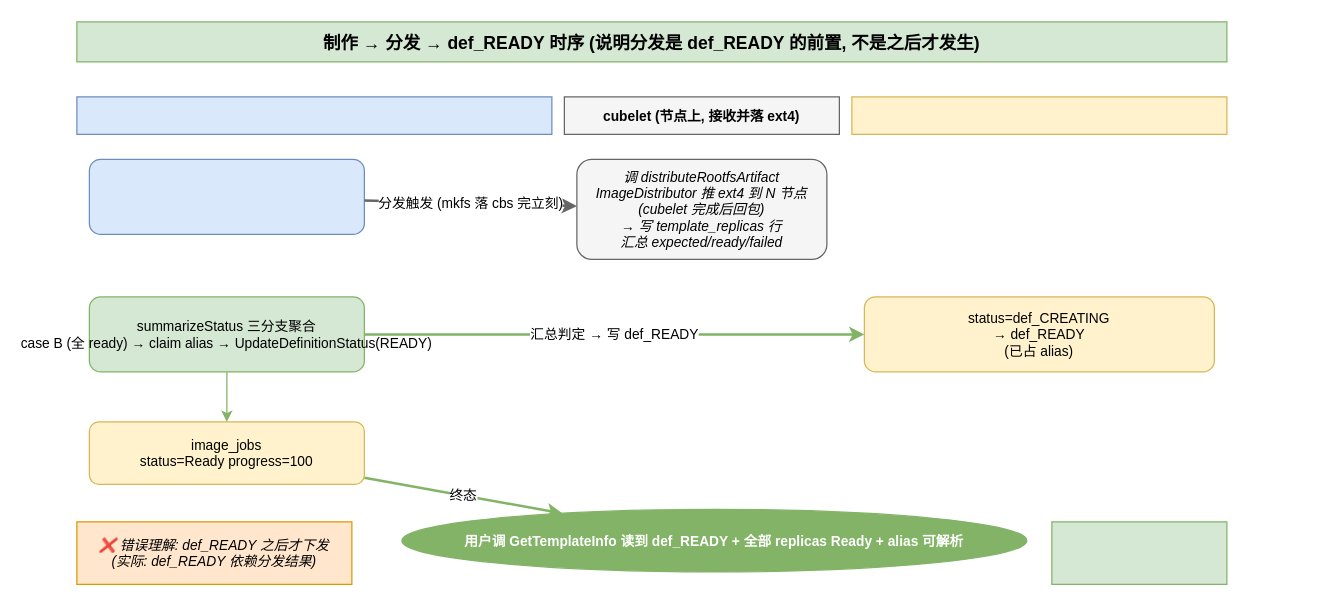
Image size: 1329x606. Some labels were removed from this diagram. The centre of each missing label's shape, as x and y in pixels:
mkfs ext4 + 落 cbs → cbs.ext4 就绪 → image_jobs phase=Distributing progress=70: pixel 226 196
template_definitions (master DB): pixel 1039 115
✅ 正确理解: mkfs → 触发分发 → 汇总 → def_READY: pixel 1139 552
模板中心 (master 进程内 image_job_runner.go): pixel 314 115
